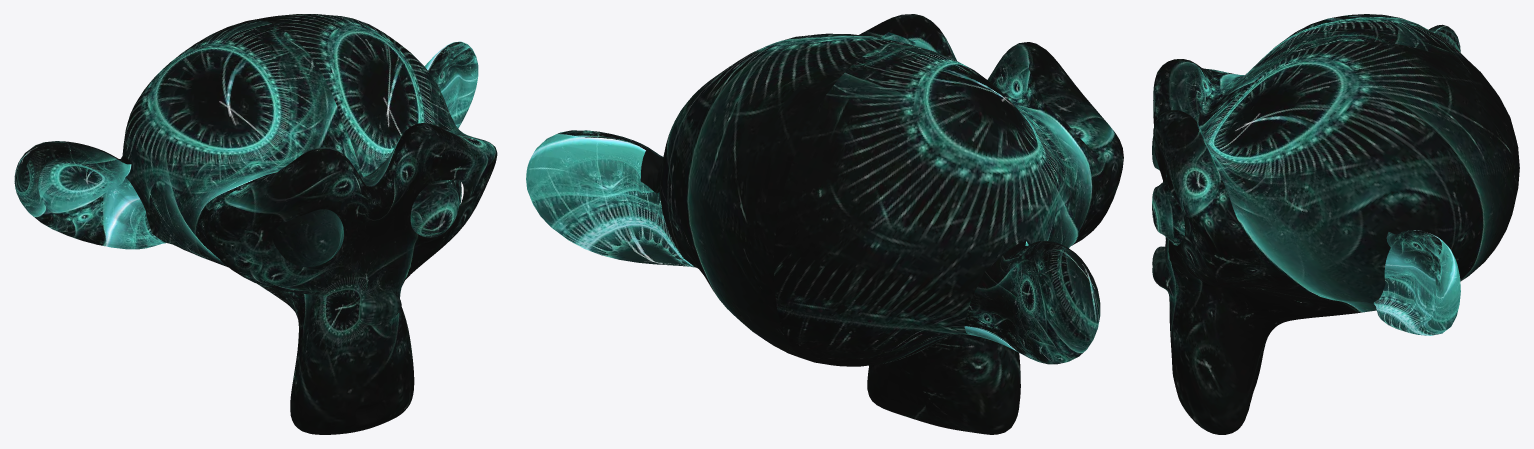
3 renders of one model, left to right at view 1: azimuth 30°, elevation 25°; view 2: azimuth 150°, elevation 25°; view 3: azimuth 270°, elevation 25°, orthographic. The views are drawn at different scales.
Visible parts, largest first — view 1: Suzanne; view 2: Suzanne; view 3: Suzanne.
Part boxes in pixels (x1,y1,x2,y2): Suzanne: (14, 14, 497, 434); Suzanne: (526, 14, 1123, 434); Suzanne: (1152, 14, 1519, 434).
Size of the model in its own units: 2.66 by 1.91 by 1.69.
1 material, 1 textured.
